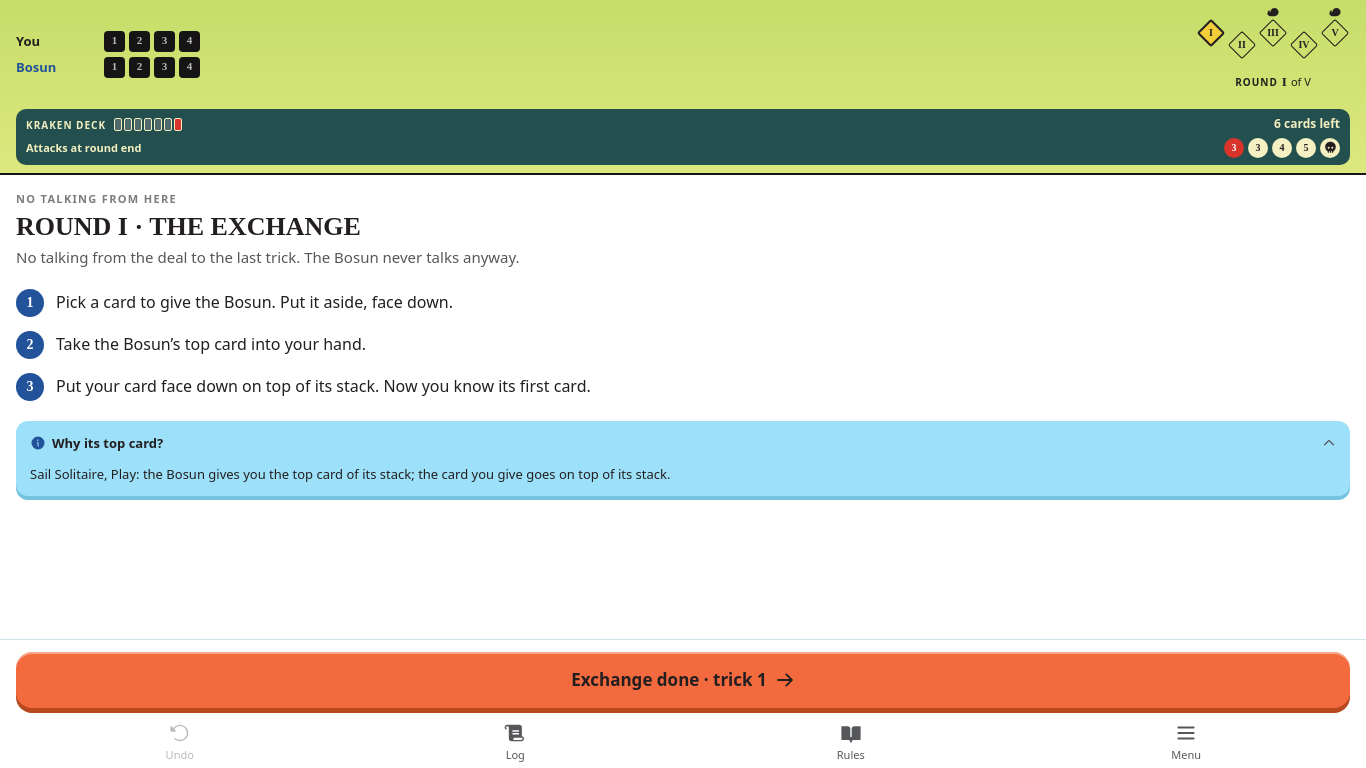
Test: the exchange (C1) › shows round I’s exchange and records it
Expected: the heading reads "ROUND I · THE EXCHANGE", [16, 212, 361, 241]
Expected: the element named "Play area" is shown, [0, 0, 1365, 175]
What coordinates should you click on to do the following:
click the button "Exchange done · trick 1"
I would click on:
 (683, 680)
Its box is [16, 652, 1350, 708].
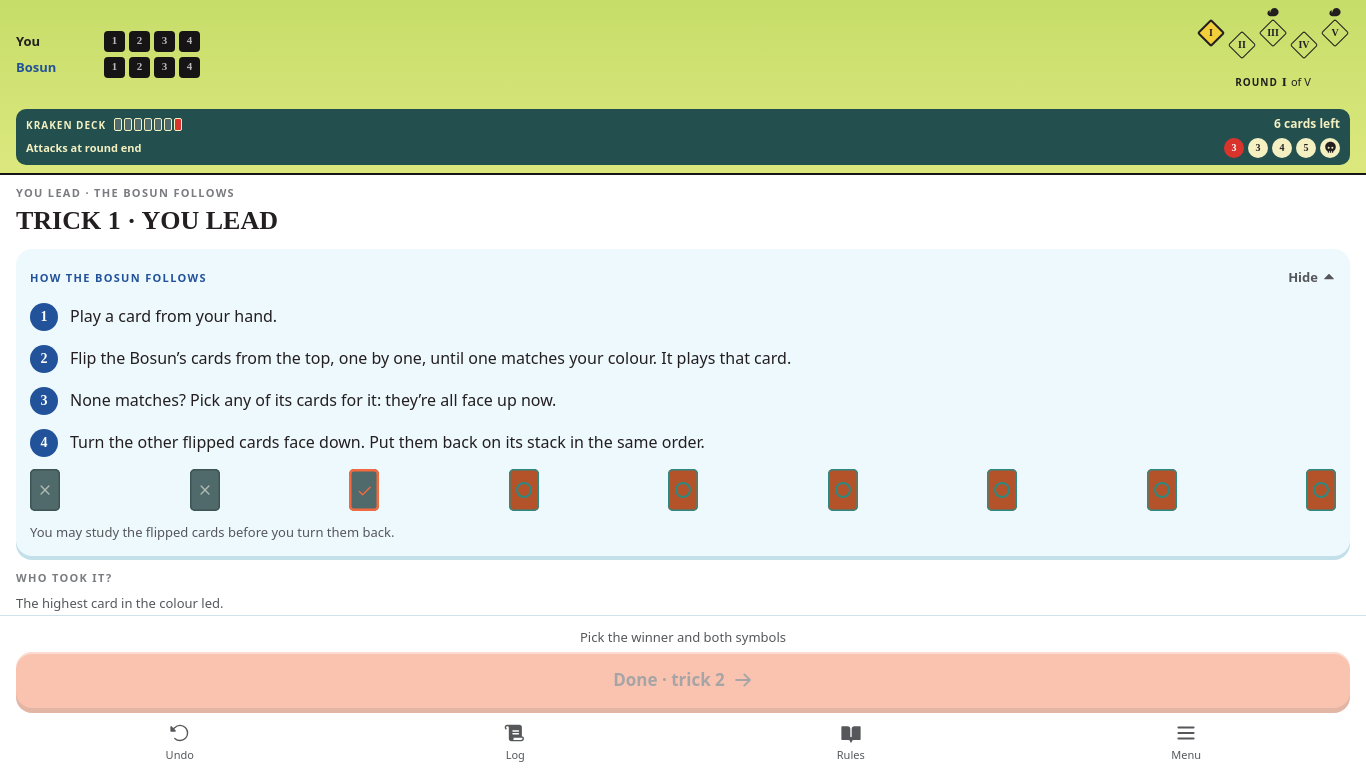
Now the heading "TRICK 1 · YOU LEAD" is shown, box [16, 206, 278, 235]
